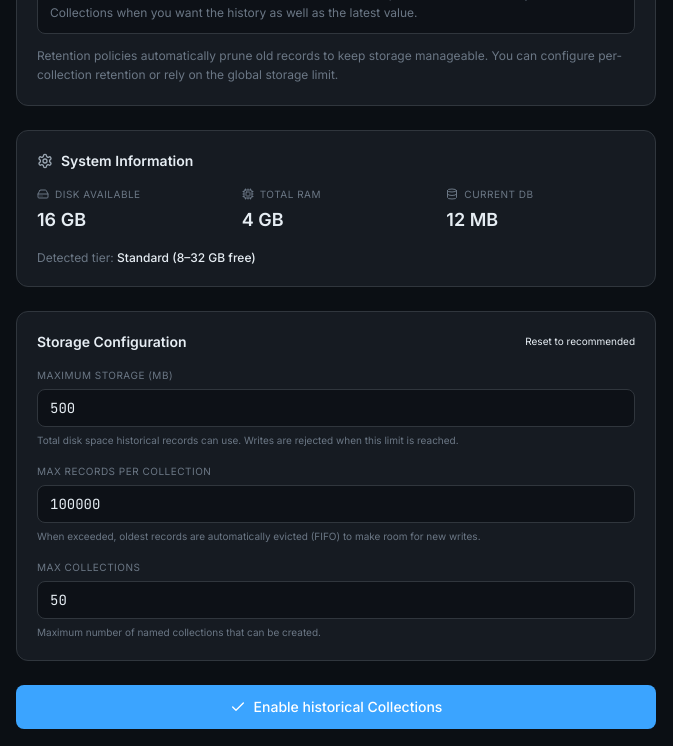
Test: SetupWizard › resets the config inputs to recommended values
(page scrolled)
Step 1. Replace the text in the number field showing "500" below "Maximum Storage (MB)" with "123" → {"x": 336, "y": 408}, box [37,388,635,426]
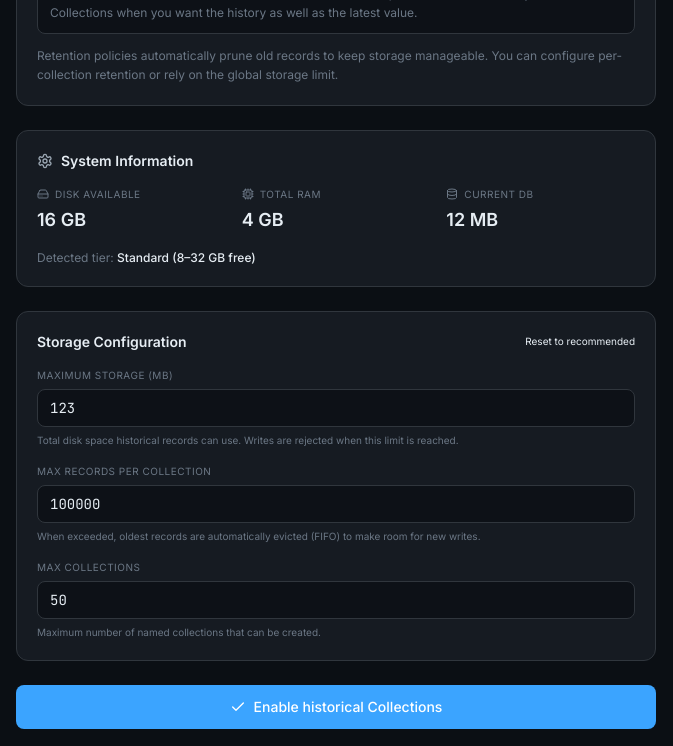
Step 2. Click the button "Reset to recommended" → {"x": 580, "y": 342}, box [525,334,635,349]
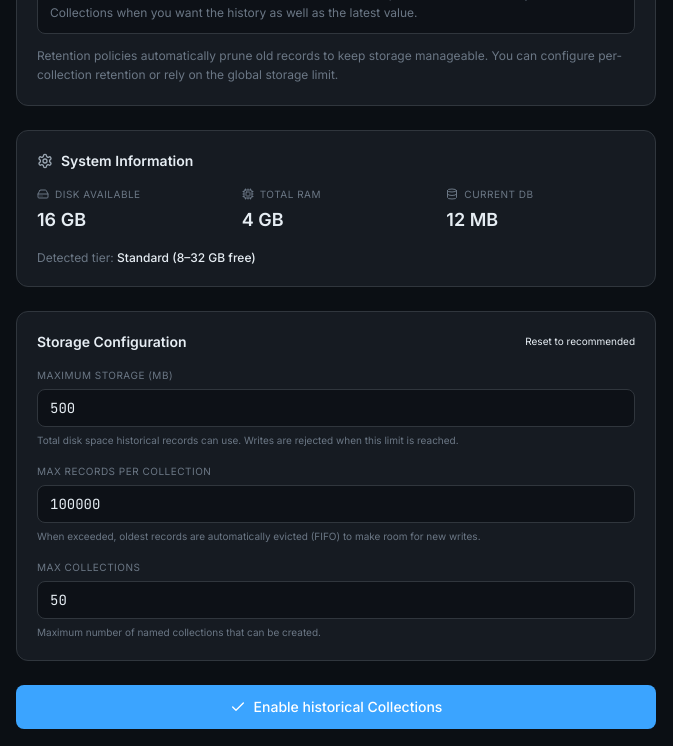
Expected: the number field showing "500" below "Maximum Storage (MB)" is shown, [37,388,635,426]
